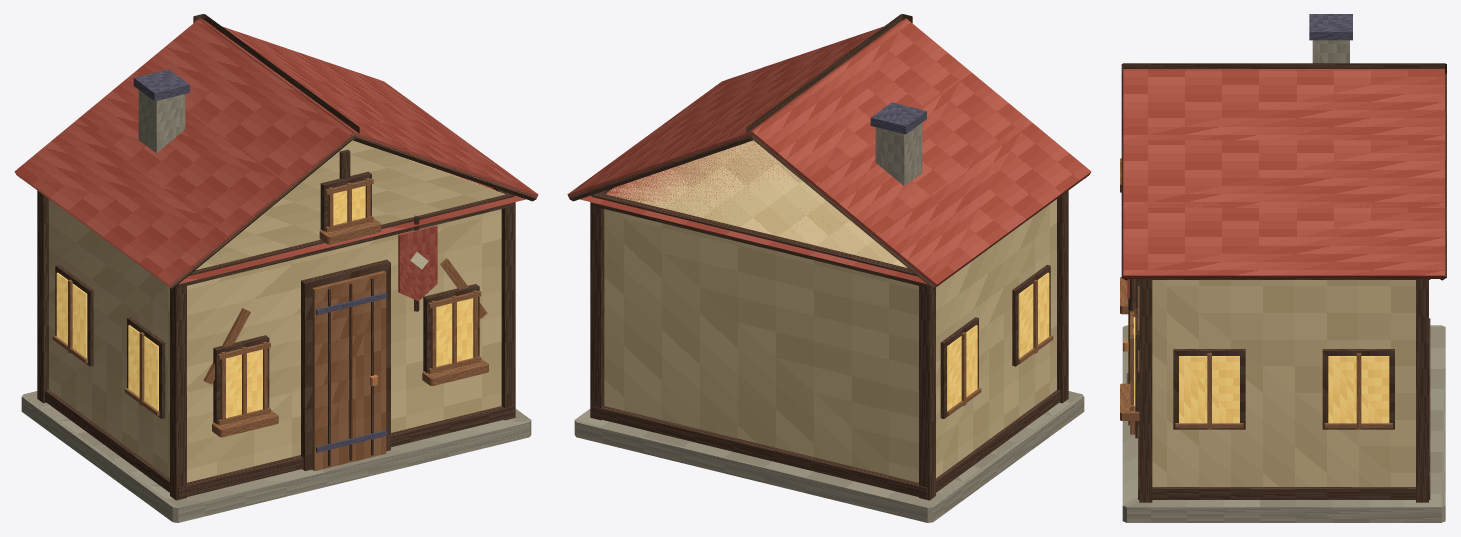
Rendered from Ma_Loge.glb.
3 renders of one model, left to right at view 1: azimuth 30°, elevation 25°; view 2: azimuth 150°, elevation 25°; view 3: azimuth 270°, elevation 25°, orthographic. The views are drawn at different scales.
Parts seen in each view (by area): view 1: Structure; view 2: Structure; view 3: Structure.
Part boxes in pixels (x1,y1,x2,y2): Structure: (14, 14, 538, 522); Structure: (567, 14, 1091, 522); Structure: (1120, 14, 1446, 522).
Bounding box in the file's own units: 6.19 × 5.61 × 4.55.
2 materials, 2 textured.
